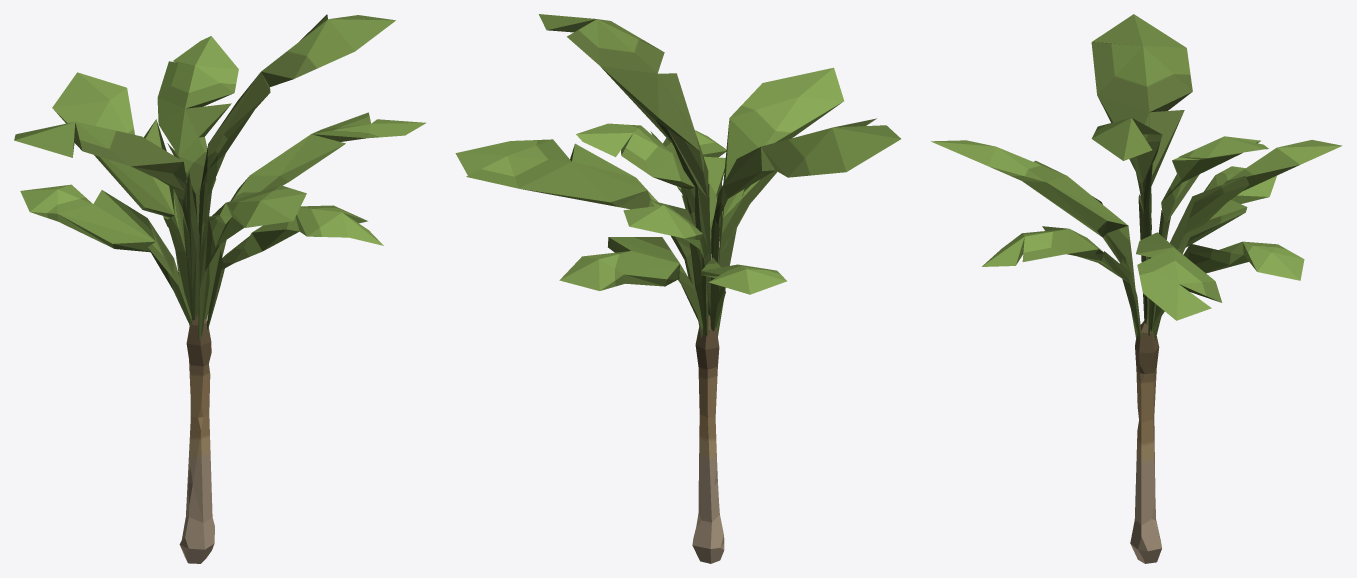
File: SM_Env_Tree_Small_01.glb
3 renders of one model, left to right at view 1: azimuth 30°, elevation 25°; view 2: azimuth 150°, elevation 25°; view 3: azimuth 270°, elevation 25°, orthographic. The views are drawn at different scales.
Visible parts, largest first — view 1: SM_Env_Tree_Small_01; view 2: SM_Env_Tree_Small_01; view 3: SM_Env_Tree_Small_01.
Boxes of the visible parts, x1,y1,x2,y2 form: SM_Env_Tree_Small_01: (14, 14, 425, 563); SM_Env_Tree_Small_01: (455, 14, 900, 563); SM_Env_Tree_Small_01: (931, 14, 1342, 563).
Bounding box in the file's own units: 3.19 × 3.62 × 2.71.
Materials: 1 (1 with a texture image).
